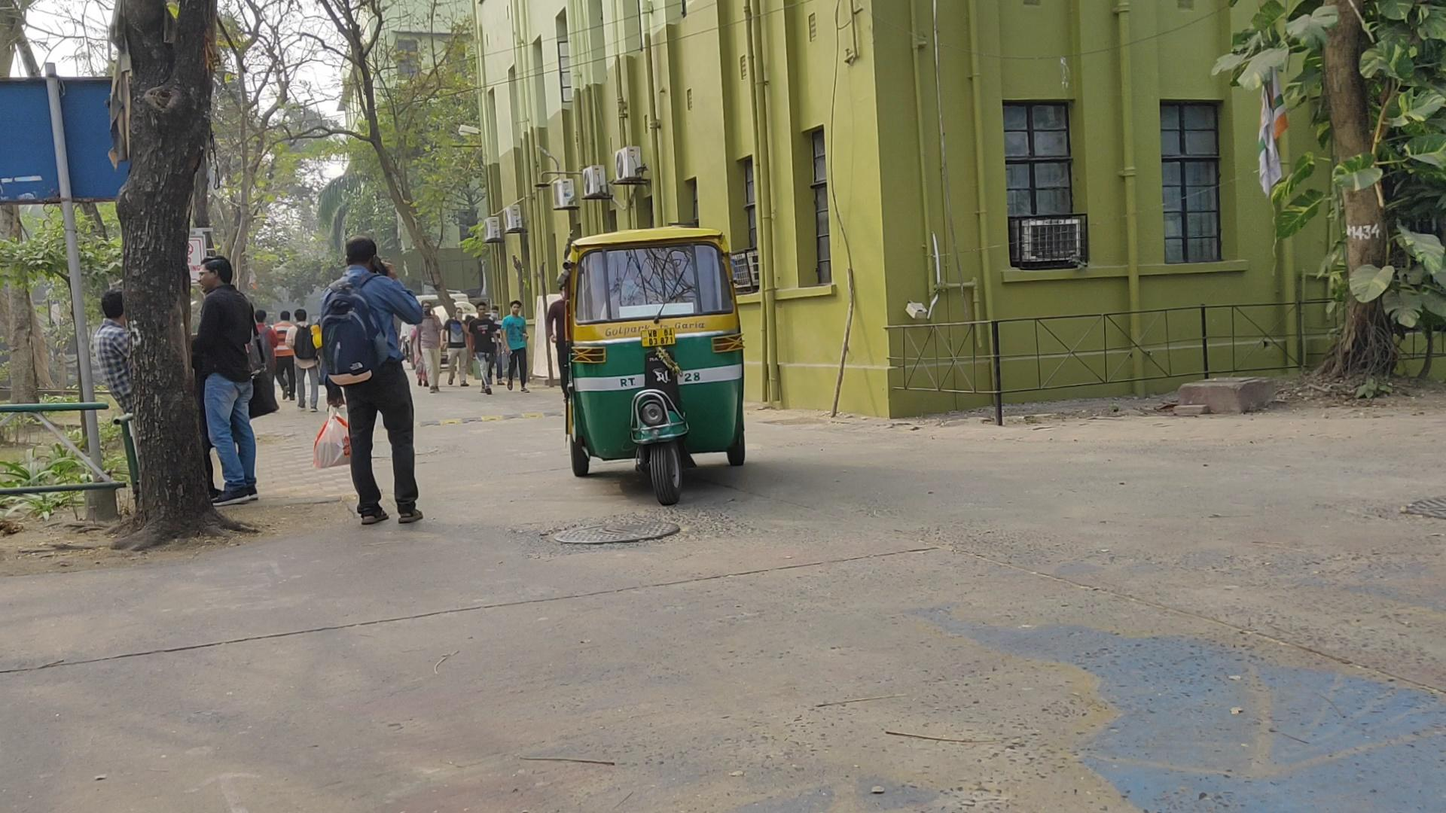Auto: (557, 228, 747, 507)
